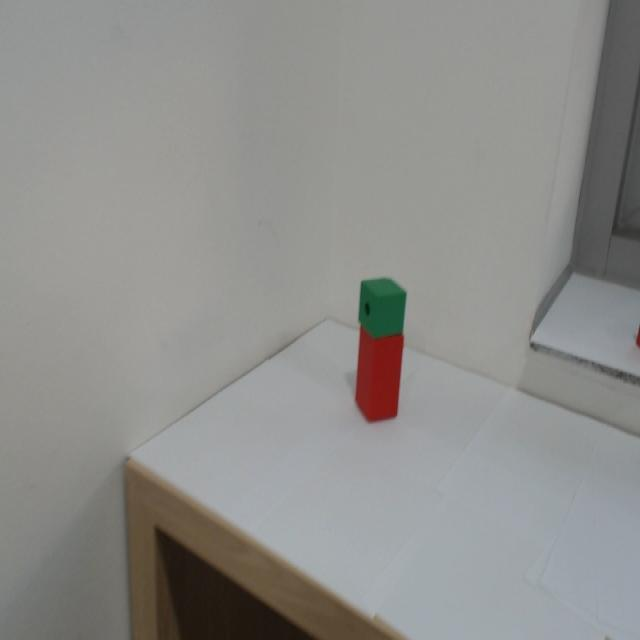cube: (355, 273, 410, 340)
